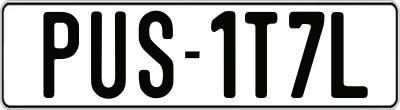1: (209, 11, 239, 104)
7: (289, 9, 325, 96)
L: (330, 12, 371, 99)
P: (41, 10, 82, 102)
S: (139, 11, 176, 101)
T: (243, 11, 277, 100)
U: (91, 11, 129, 102)
